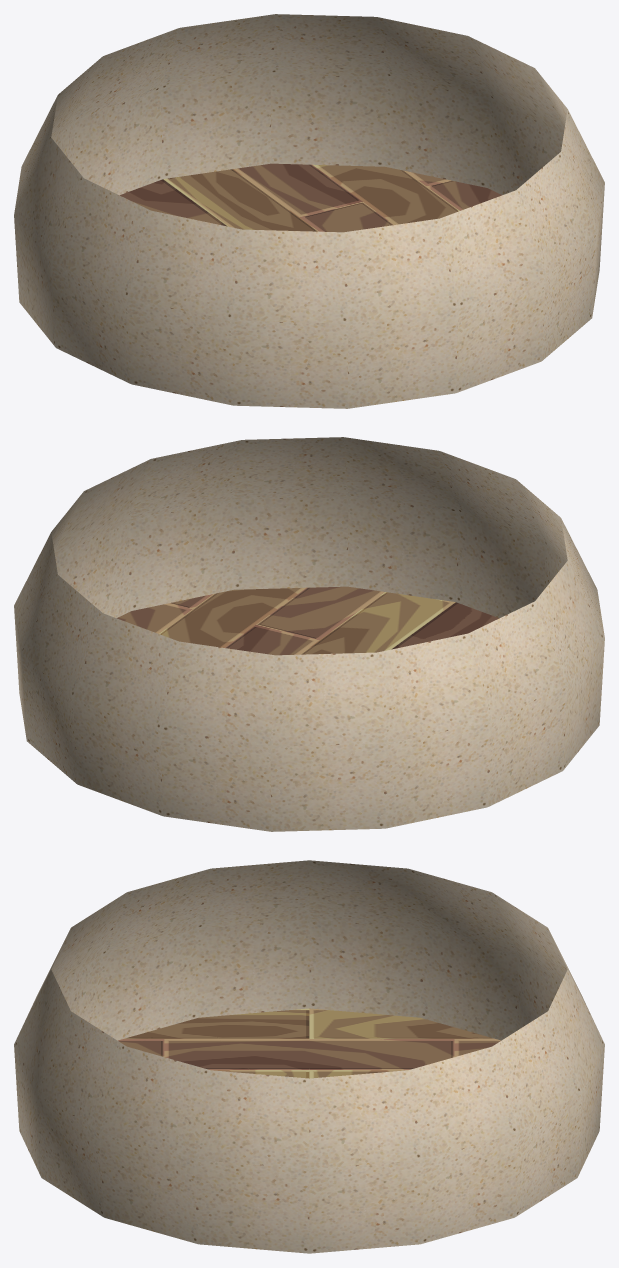
Rendered from shroom.gltf.
3 views of the same model, one above another, from view 1: azimuth 30°, elevation 25°; view 2: azimuth 150°, elevation 25°; view 3: azimuth 270°, elevation 25° (orthographic).
Visible parts, largest first — view 1: Cylinder; view 2: Cylinder; view 3: Cylinder.
Boxes of the visible parts, left/top/right/bottom form: Cylinder: left=14, top=14, right=604, bottom=408; Cylinder: left=14, top=437, right=604, bottom=831; Cylinder: left=14, top=860, right=604, bottom=1253.
Bounding box in the file's own units: 33 × 9.96 × 33.
2 materials, 2 textured.
